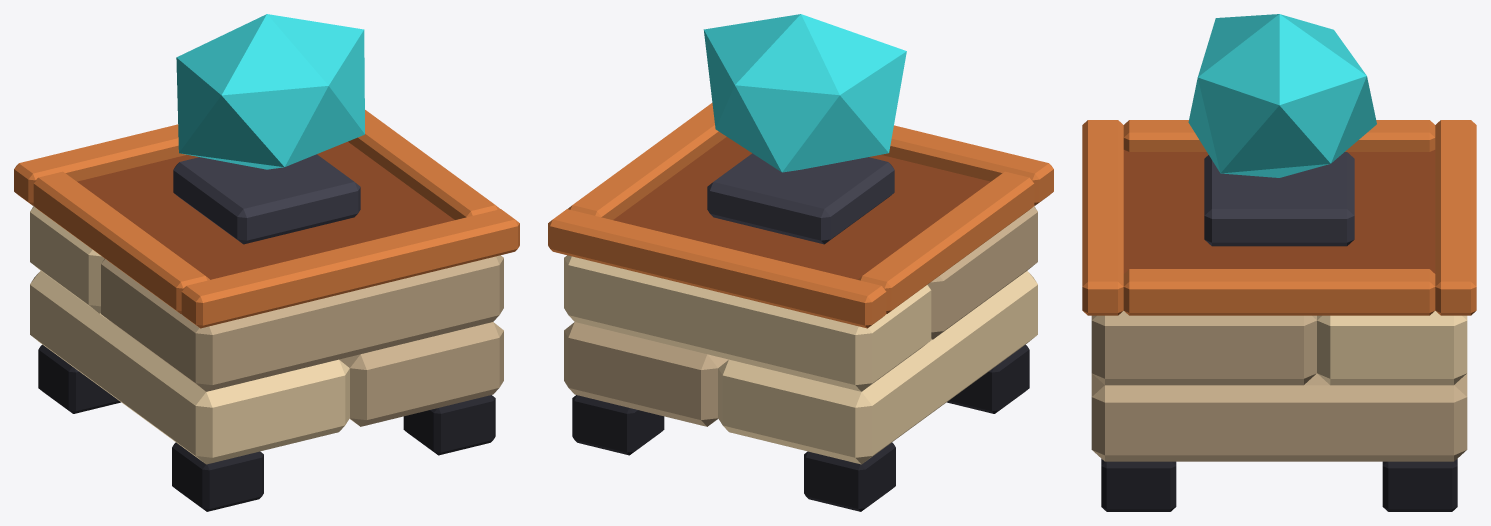
File: OreStand.fbx
The picture shows the model from 3 angles, left to right: view 1: azimuth 30°, elevation 25°; view 2: azimuth 150°, elevation 25°; view 3: azimuth 270°, elevation 25°; orthographic projection. The views are drawn at different scales.
Visible parts, largest first — view 1: CourseHigh, Ore, CourseLow, TrayFloor, TrayRail, Seat, CourseLow.001, TrayRail.001, TrayRail.003, TrayRail.002, Foot, CourseHigh.001 (+2 smaller); view 2: Ore, CourseHigh.001, CourseLow, TrayFloor, TrayRail.002, Seat, CourseLow.001, TrayRail.001, CourseHigh, TrayRail.003, TrayRail, Foot.001 (+2 smaller); view 3: CourseLow.001, Ore, TrayFloor, CourseHigh, TrayRail.003, Seat, CourseHigh.001, TrayRail, TrayRail.002, TrayRail.001, Foot.002, Foot.003.
Boxes of the visible parts, box(x1,y1,x2,y2) form: CourseHigh: box(101, 255, 503, 391); Ore: box(176, 14, 364, 169); CourseLow: box(30, 271, 349, 464); TrayFloor: box(77, 141, 454, 279); TrayRail: box(181, 209, 519, 328); Seat: box(173, 154, 360, 244); CourseLow.001: box(339, 322, 503, 426); TrayRail.001: box(33, 171, 209, 313); TrayRail.003: box(348, 110, 499, 219); TrayRail.002: box(14, 124, 186, 205); Foot: box(172, 442, 263, 511); CourseHigh.001: box(30, 206, 104, 313); Ore: box(703, 14, 906, 172); CourseHigh.001: box(564, 255, 931, 391); CourseLow: box(718, 271, 1037, 464); TrayFloor: box(613, 137, 990, 279); TrayRail.002: box(548, 209, 886, 328); Seat: box(707, 153, 894, 244); CourseLow.001: box(564, 322, 728, 426); TrayRail.001: box(858, 171, 1034, 313); CourseHigh: box(928, 206, 1037, 339); TrayRail.003: box(568, 103, 726, 219); TrayRail: box(881, 125, 1053, 205); Foot.001: box(804, 442, 895, 511); CourseLow.001: box(1091, 373, 1467, 461); Ore: box(1188, 14, 1376, 177); TrayFloor: box(1123, 150, 1435, 273); CourseHigh: box(1091, 311, 1316, 385); TrayRail.003: box(1123, 269, 1435, 315); Seat: box(1204, 152, 1354, 246); CourseHigh.001: box(1317, 311, 1467, 385); TrayRail: box(1082, 120, 1123, 315); TrayRail.002: box(1435, 120, 1476, 315); TrayRail.001: box(1123, 120, 1435, 151); Foot.002: box(1101, 459, 1176, 511); Foot.003: box(1382, 459, 1457, 511).
Size of the model in its own units: 210 by 250 by 210.
